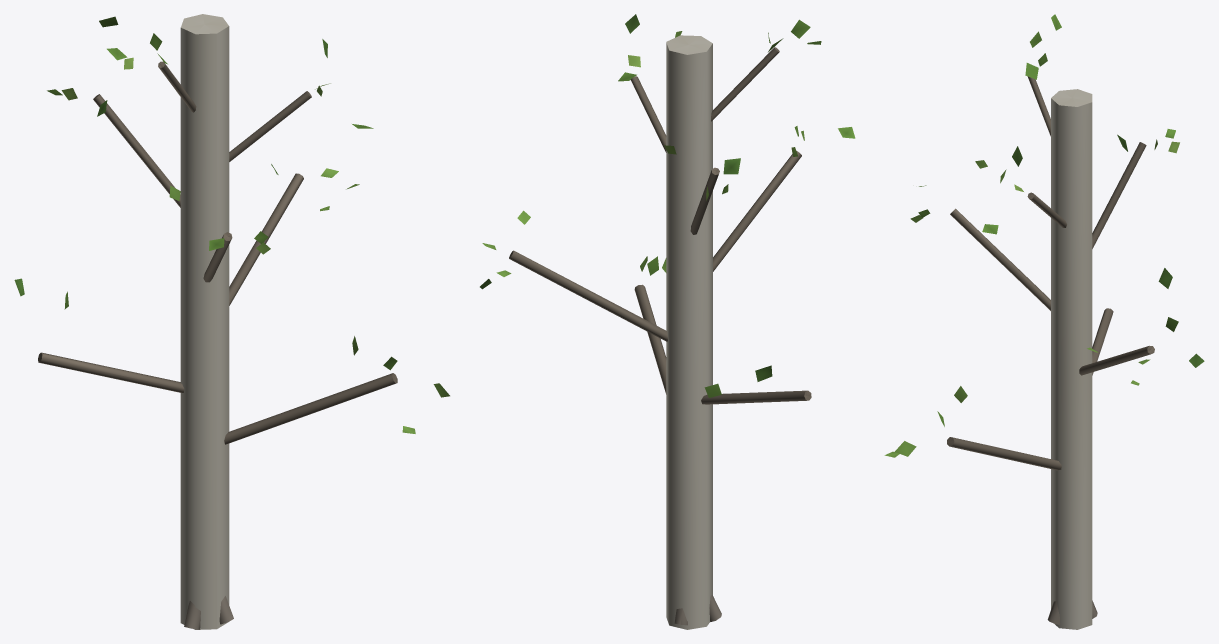
The model's file is standard-lod2.glb.
The picture shows the model from 3 angles, left to right: view 1: azimuth 30°, elevation 25°; view 2: azimuth 150°, elevation 25°; view 3: azimuth 270°, elevation 25°; orthographic projection. The views are drawn at different scales.
Parts seen in each view (by area): view 1: birch-bark-branches-buried-roots-ground-blend, birch-bifurcated-twigs-and-leaves; view 2: birch-bark-branches-buried-roots-ground-blend, birch-bifurcated-twigs-and-leaves; view 3: birch-bark-branches-buried-roots-ground-blend, birch-bifurcated-twigs-and-leaves.
Part boxes in pixels (x1,y1,x2,y2): birch-bark-branches-buried-roots-ground-blend: (38, 14, 397, 629); birch-bifurcated-twigs-and-leaves: (14, 16, 449, 433); birch-bark-branches-buried-roots-ground-blend: (509, 35, 811, 629); birch-bifurcated-twigs-and-leaves: (480, 14, 855, 397); birch-bark-branches-buried-roots-ground-blend: (947, 76, 1154, 629); birch-bifurcated-twigs-and-leaves: (884, 14, 1204, 457).
Size of the model in its own units: 8.98 by 17.12 by 8.87.
